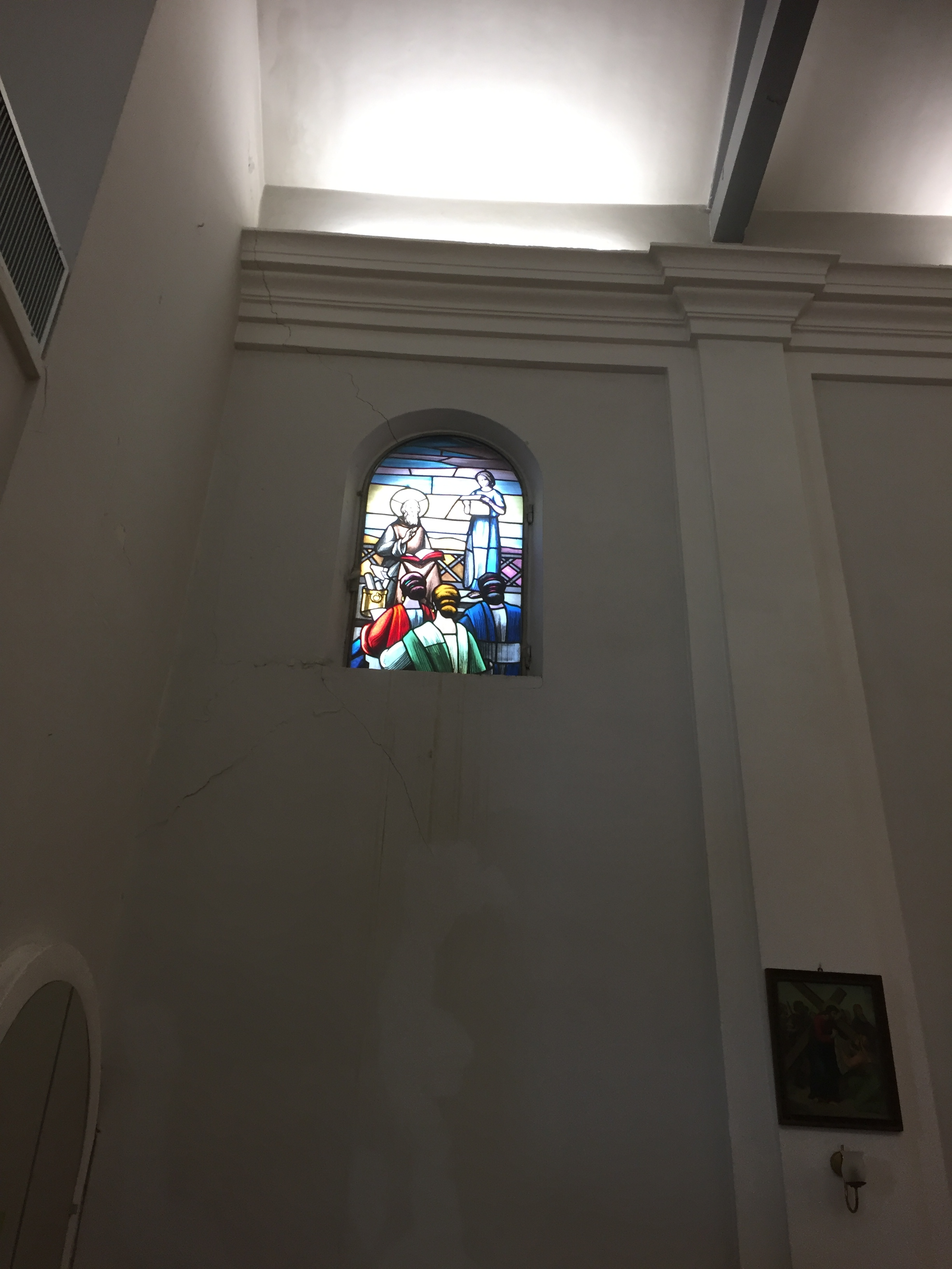Crack: (163, 211, 439, 850)
